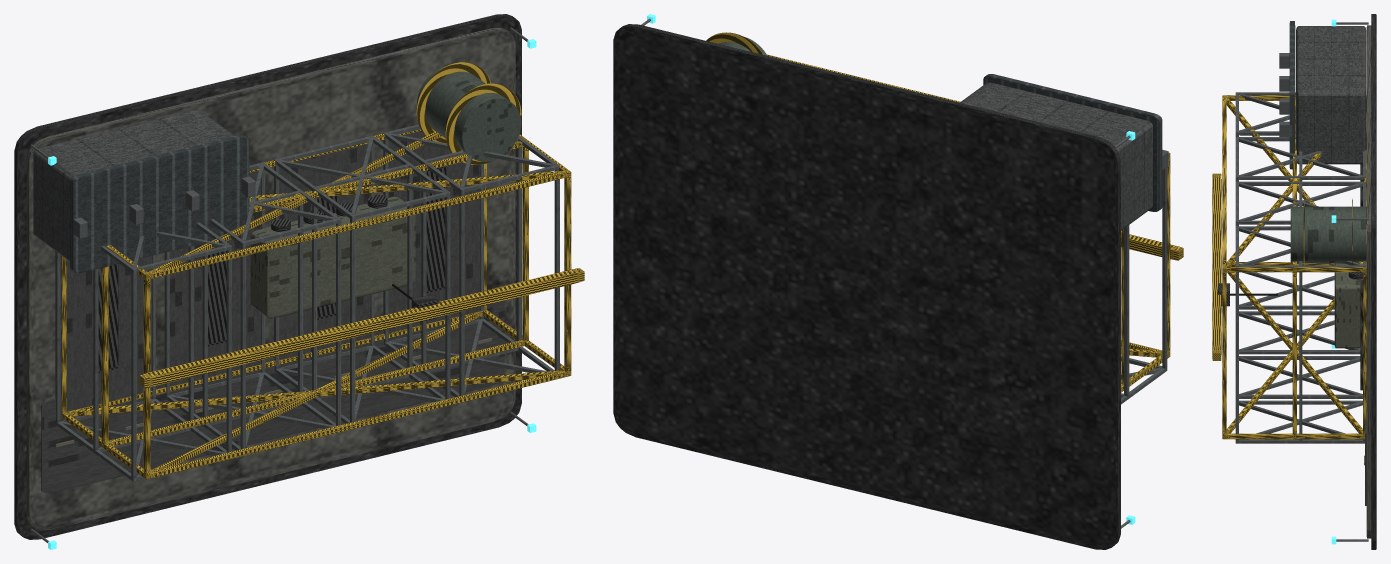
Rendered from b-39-repair-depot-lod0.glb.
The picture shows the model from 3 angles, left to right: view 1: azimuth 30°, elevation 25°; view 2: azimuth 150°, elevation 25°; view 3: azimuth 270°, elevation 25°; orthographic projection. The views are drawn at different scales.
Visible parts, largest first — view 1: foundation_inner_pad, foundation, service_lane_road, workshop_roof, repair_vehicle_hull, workshop_main_hall, service_bay_floor_0, service_crane_bridge, service_bay_floor_3, service_bay_floor_1, fuel_tank_vessel, service_bay_floor_2 (+39 smaller); view 2: foundation, workshop_main_hall, workshop_roof, service_bay_frame_0_beam_y_2_w, service_bay_frame_0_beam_y_1_w, service_crane_beam_y_2_w, service_crane_bridge; view 3: workshop_main_hall, fuel_tank_vessel, foundation, foundation_inner_pad, repair_vehicle_hull, service_crane_bridge, service_crane_brace_b_-3.4, service_crane_brace_a_-3.4, service_crane_column_e_s, workshop_roof, service_crane_beam_x_2_n, service_crane_beam_y_2_e (+38 smaller).
Boxes of the visible parts, x1,y1,x2,y2 form: foundation_inner_pad: (26, 27, 515, 530); foundation: (14, 14, 521, 539); service_lane_road: (41, 301, 504, 492); workshop_roof: (70, 135, 249, 273); repair_vehicle_hull: (250, 196, 415, 318); workshop_main_hall: (33, 110, 234, 261); service_bay_floor_0: (60, 255, 151, 420); service_crane_bridge: (139, 268, 584, 387); service_bay_floor_3: (388, 131, 479, 340); service_bay_floor_1: (170, 170, 261, 394); fuel_tank_vessel: (417, 66, 521, 161); service_bay_floor_2: (279, 144, 370, 367); foundation: (613, 24, 1120, 549); workshop_main_hall: (960, 82, 1152, 230); workshop_roof: (983, 74, 1162, 211); service_bay_frame_0_beam_y_2_w: (1162, 167, 1167, 369); service_bay_frame_0_beam_y_1_w: (1124, 225, 1129, 396); service_crane_beam_y_2_w: (1167, 152, 1170, 354); service_crane_bridge: (1121, 232, 1183, 260); workshop_main_hall: (1296, 26, 1366, 164); fuel_tank_vessel: (1290, 206, 1366, 263); foundation: (1371, 14, 1376, 549); foundation_inner_pad: (1366, 25, 1371, 538); repair_vehicle_hull: (1334, 263, 1362, 348); service_crane_bridge: (1212, 173, 1221, 360); service_crane_brace_b_-3.4: (1227, 272, 1362, 433); service_crane_brace_a_-3.4: (1226, 298, 1334, 433); service_crane_column_e_s: (1226, 433, 1363, 439); workshop_roof: (1289, 21, 1295, 169); service_crane_beam_x_2_n: (1222, 96, 1226, 272); service_crane_beam_y_2_e: (1222, 267, 1226, 438).
Size of what is drawn, in the model's own units: 18 by 14 by 6.07.
Materials: 13 (13 with a texture image).
